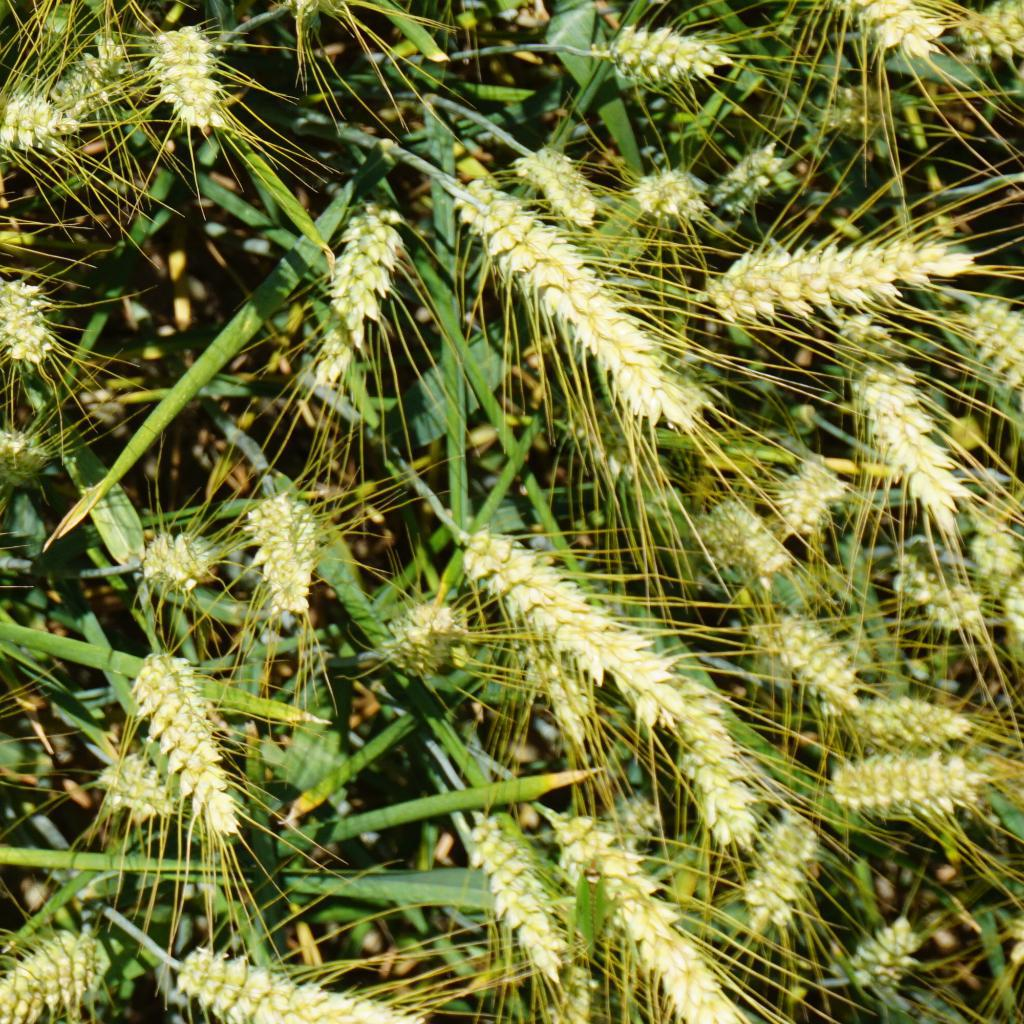0-0: (450, 176, 711, 438), (459, 512, 685, 702), (691, 220, 987, 336), (563, 819, 736, 1015), (851, 312, 975, 525), (303, 188, 422, 367), (144, 642, 247, 840), (480, 796, 587, 975), (169, 938, 370, 1024), (815, 738, 994, 822), (243, 467, 335, 604), (147, 9, 232, 145), (592, 17, 742, 90), (674, 708, 749, 849), (819, 0, 952, 71), (126, 506, 211, 610), (0, 932, 93, 1022), (892, 547, 984, 636), (764, 613, 859, 698), (751, 814, 822, 922), (42, 29, 130, 109), (515, 143, 607, 216), (706, 495, 786, 577), (706, 141, 790, 218), (98, 742, 171, 824), (772, 454, 839, 539), (845, 699, 979, 741), (617, 154, 702, 220), (0, 79, 73, 155), (0, 280, 60, 371), (568, 401, 640, 476), (821, 73, 905, 136), (390, 588, 457, 664), (854, 913, 921, 987), (965, 301, 1024, 379), (531, 659, 590, 732), (965, 0, 1024, 64), (974, 521, 1024, 579), (597, 795, 660, 841), (258, 0, 352, 28), (0, 430, 44, 480), (994, 578, 1024, 641)
